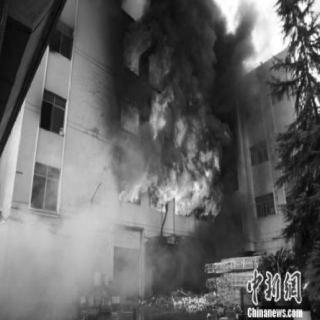Fire: (120, 40, 222, 218)
Smoke: (163, 3, 254, 103)
